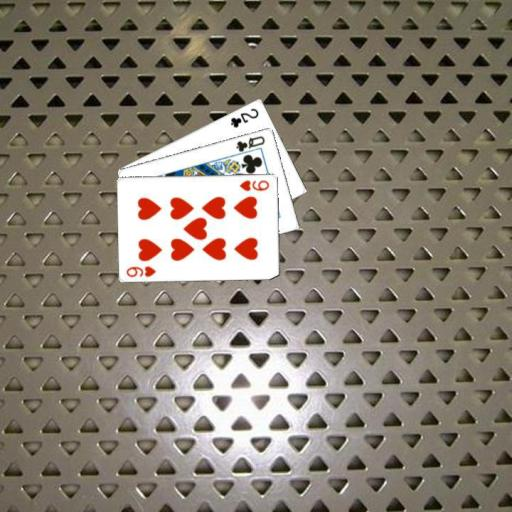2C: (228, 105, 260, 129)
9H: (237, 176, 271, 192), (124, 262, 158, 278)
QC: (233, 132, 267, 153)
